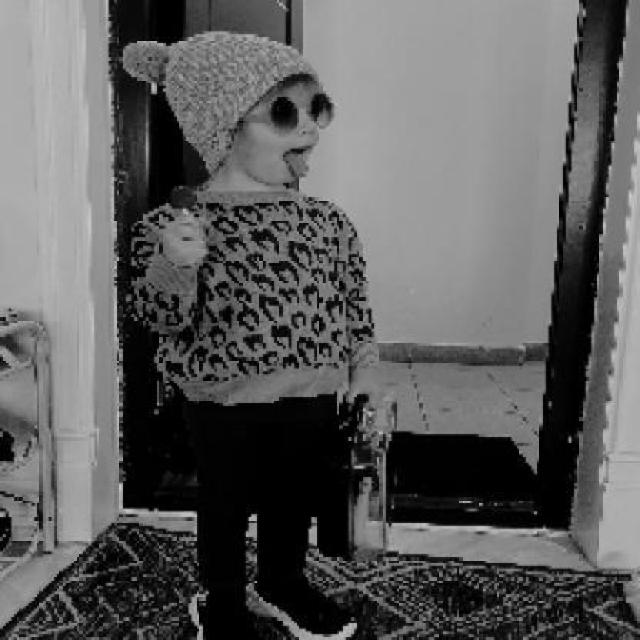child: (120, 28, 403, 638)
